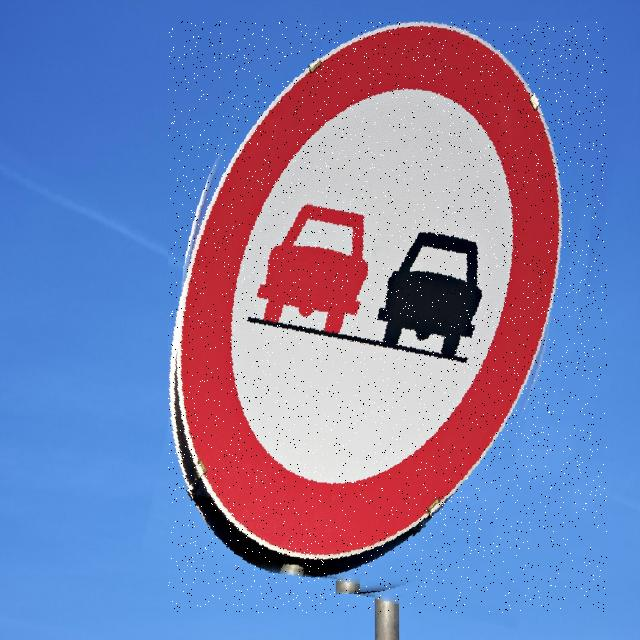no overtaking: (168, 21, 607, 613)
